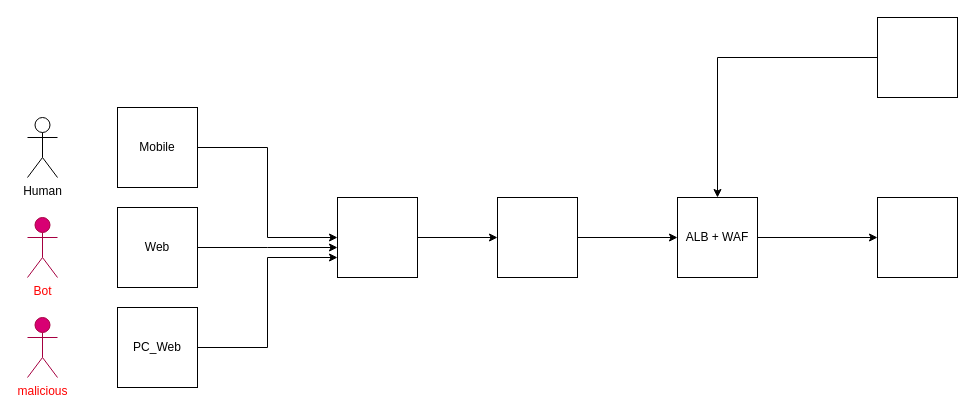
The diagram is 975 pixels wide and 416 high, and some of its shapes have lost their labels. The box of each missing label's shape, as (x1, y1, x2, y2) in pixels:
APP Service: (876, 196, 958, 278)
DNS / DoH: (336, 196, 418, 278)
NLB: (496, 196, 578, 278)
WAF_Portal: (876, 16, 958, 98)
